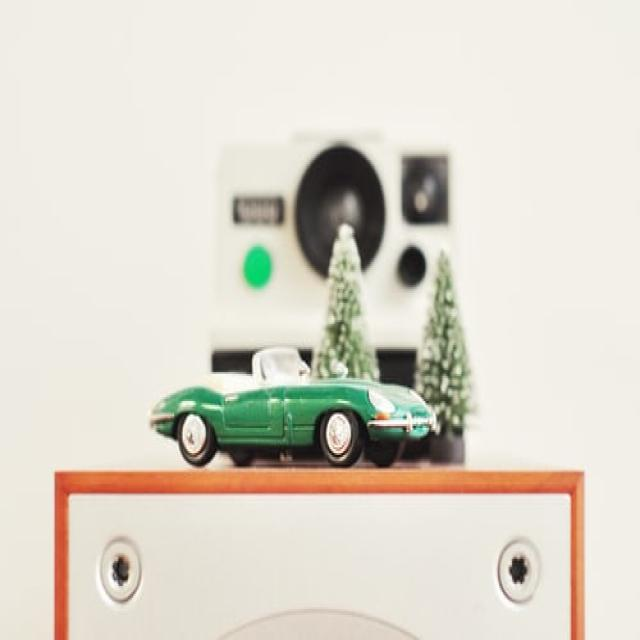Car: (148, 345, 436, 467)
